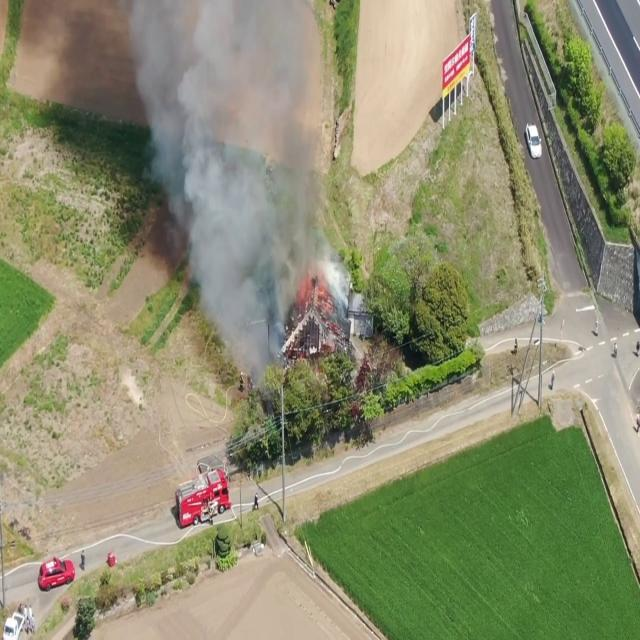Smoke: (130, 0, 358, 370)
